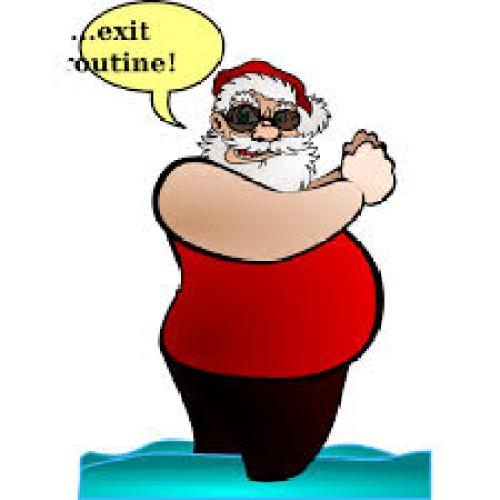Santa: (150, 57, 398, 484)
